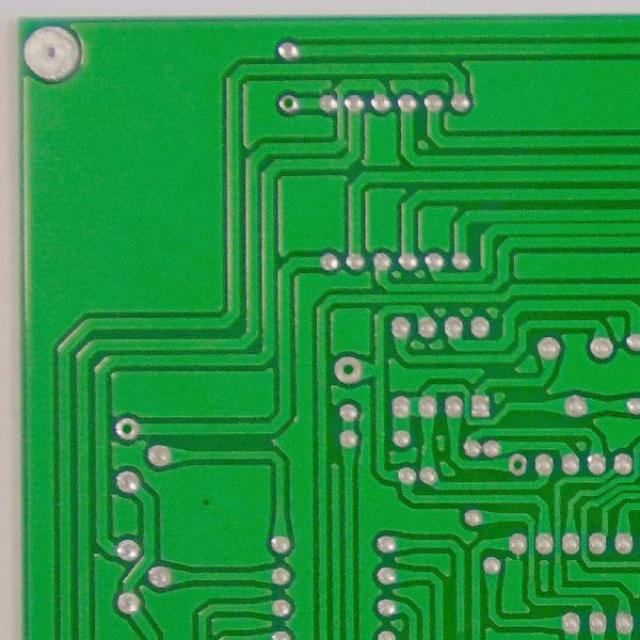Missing_Hole: (329, 354, 364, 387), (111, 416, 141, 444), (506, 452, 530, 478), (275, 92, 300, 115)
